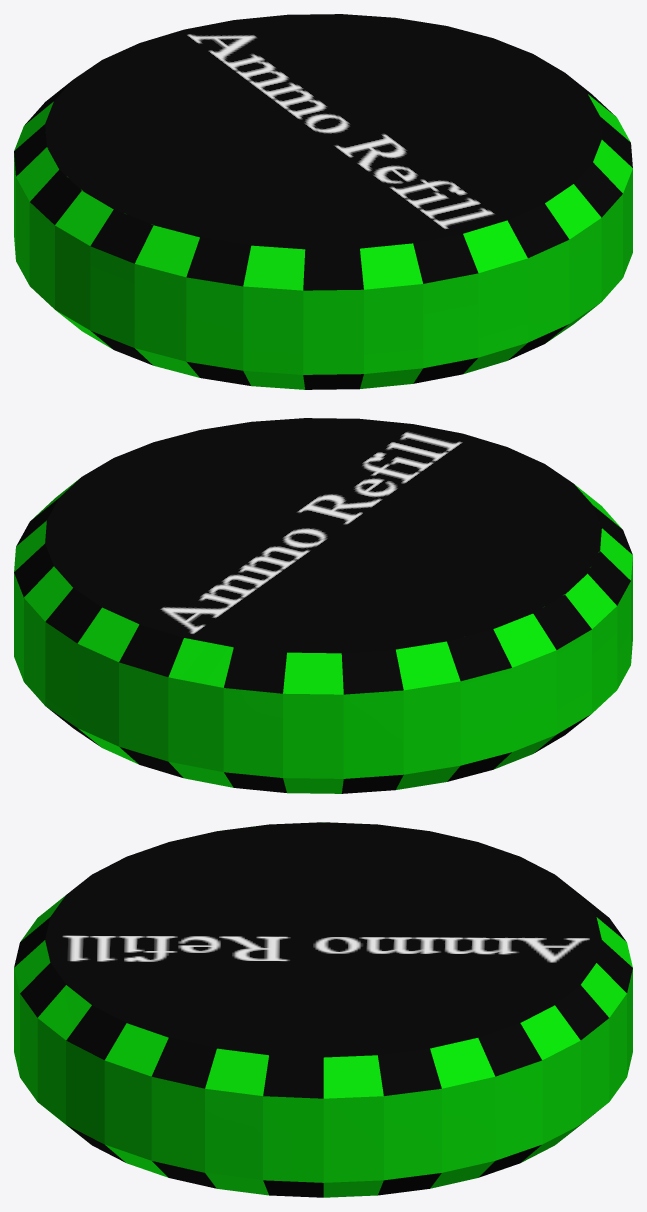
The model's file is Ammo_Refill.fbx.
The picture shows the model from 3 angles, top to bottom: view 1: azimuth 30°, elevation 25°; view 2: azimuth 150°, elevation 25°; view 3: azimuth 270°, elevation 25°; orthographic projection.
Parts seen in each view (by area): view 1: Cylinder; view 2: Cylinder; view 3: Cylinder.
Boxes of the visible parts, bbox=[...] form: Cylinder: bbox=[14, 14, 632, 389]; Cylinder: bbox=[14, 418, 632, 793]; Cylinder: bbox=[14, 822, 632, 1197].
Bounding box in the file's own units: 200 × 50 × 200.
Materials: 1 (1 with a texture image).
